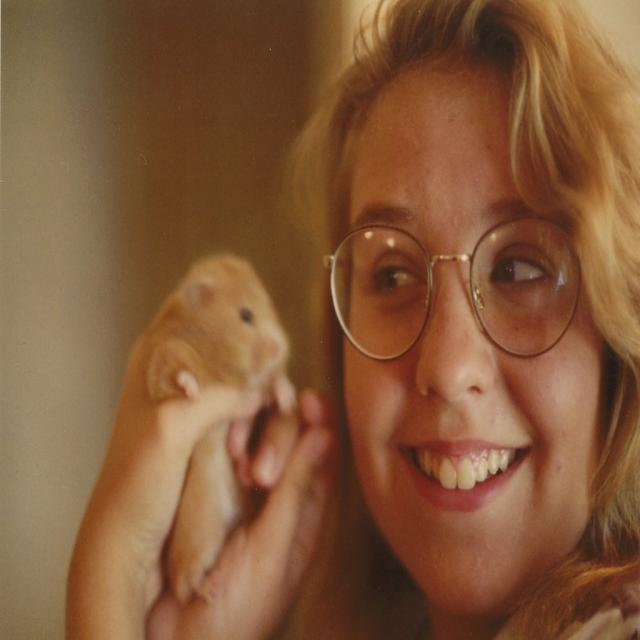rat: (140, 246, 296, 604)
